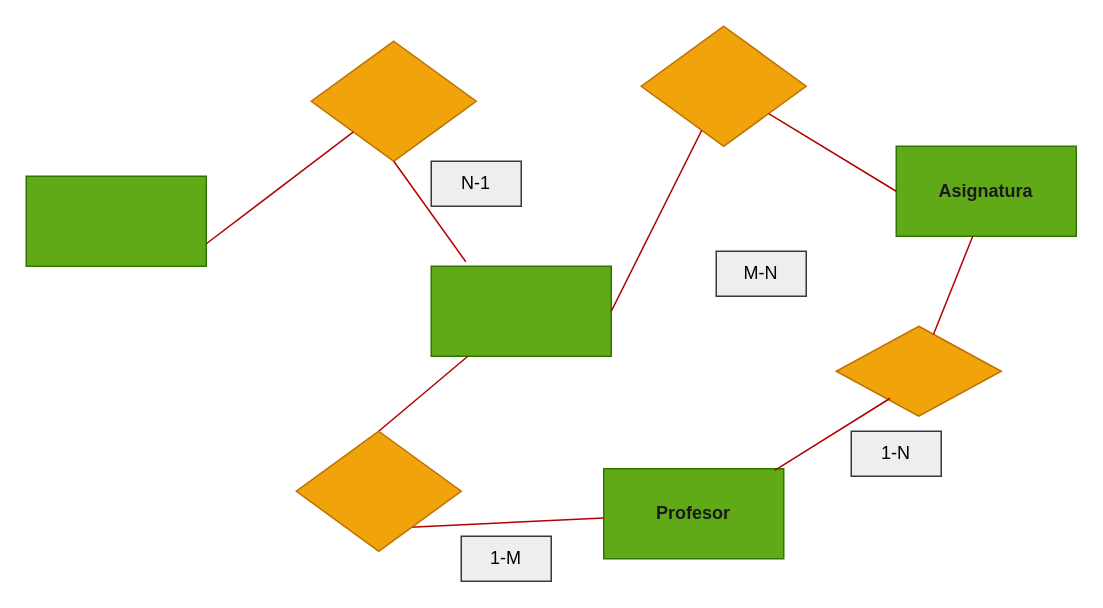
The diagram is 1103 pixels wide and 608 high, and some of its shapes have lost their labels. The centre of each missing label's shape, as x and y in pixels:
"Alumno" goes at point 520,310.
"Matrícula" goes at point 115,220.
